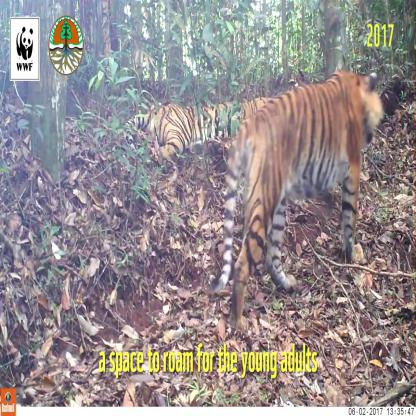Tiger: (227, 62, 385, 304), (120, 87, 236, 174)
